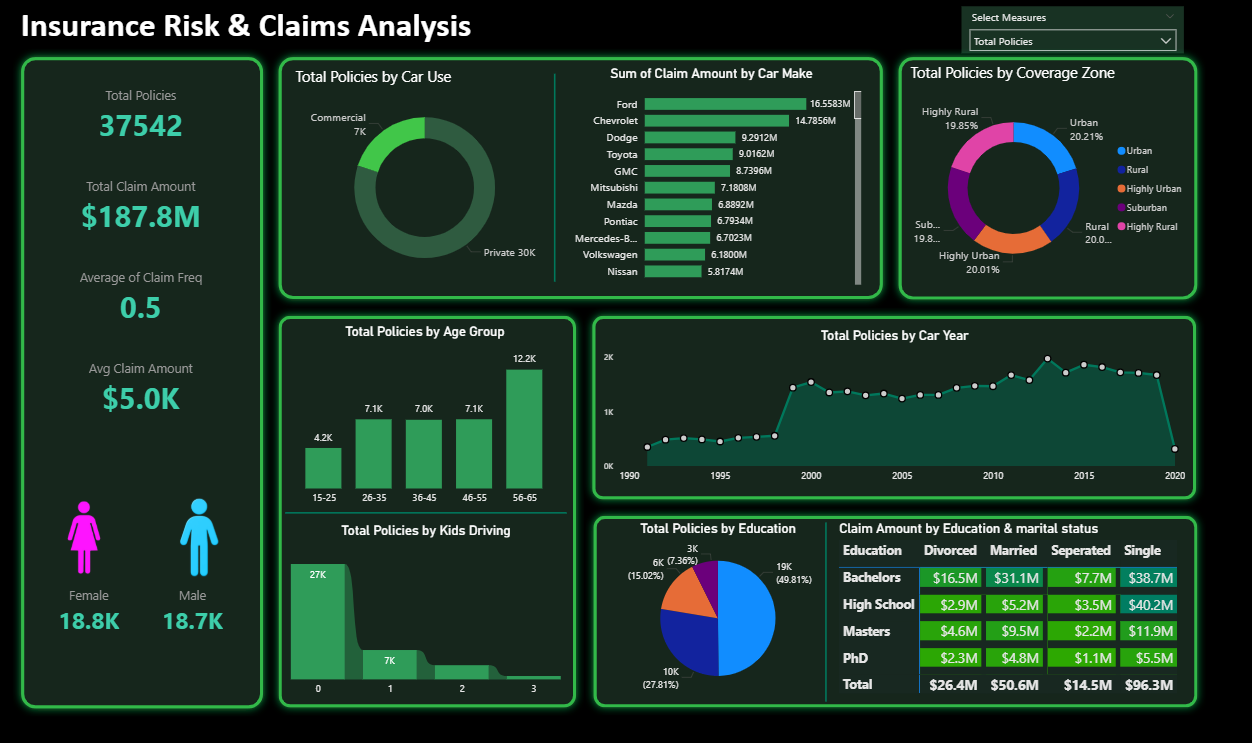

The page's visual inventory and layout, read from the dashboard file:
{"tool":"powerbi","page":{"name":"Page 1","canvas":[1600,950],"ordinal":0},"visuals":[{"type":"textbox","box":[0,0,629.5,61.7],"z":0},{"type":"shape","box":[17.2,61.7,329.3,850.8],"z":1000},{"type":"cardVisual","fields":{"Data":["insurance_data_car.Total Policies","insurance_data_car.Total Claim Amount","Avg(insurance_data_car.Claim Freq)","insurance_data_car.Avg Claim Amount"]},"box":[46.3,90.9,269.3,459.7],"z":2000},{"type":"cardVisual","fields":{"Data":["insurance_data_car.Female Count","insurance_data_car.Male Count"]},"box":[51.5,722.1,260.7,109.8],"z":3000},{"type":"image","box":[197.3,627.8,114.9,114.9],"z":4000},{"type":"image","box":[51.5,627.8,114.9,114.9],"z":5000},{"type":"slicer","fields":{"Values":["Select Measures.Select Measures"]},"box":[1225.3,8,283.3,60],"z":6000},{"type":"shape","box":[344.8,61.7,790.7,329.3],"z":7000},{"type":"donutChart","fields":{"Y":["insurance_data_car.Total Policies"],"Category":["insurance_data_car.Car Use"]},"box":[372.2,84,339.6,284.7],"z":8000},{"type":"clusteredBarChart","fields":{"Category":["insurance_data_car.Car Make"],"Y":["Sum(insurance_data_car.Claim Amount)"]},"box":[711.7,83.3,391.7,285],"z":9000},{"type":"shape","box":[1135,61.7,401.7,330],"z":10000},{"type":"donutChart","fields":{"Y":["insurance_data_car.Total Policies"],"Category":["insurance_data_car.Coverage Zone"]},"box":[1155,80,365,295],"z":11000},{"type":"shape","box":[345,391.7,400,520],"z":12000},{"type":"clusteredColumnChart","fields":{"Y":["insurance_data_car.Total Policies"],"Category":["insurance_data_car.Age Group"]},"box":[360,411.7,365,240],"z":13000},{"type":"ribbonChart","fields":{"Y":["insurance_data_car.Total Policies"],"Category":["insurance_data_car.Kids Driving"]},"box":[365,665,358.3,230],"z":14000},{"type":"shape","box":[745,391.7,790,255],"z":15000},{"type":"areaChart","fields":{"Y":["insurance_data_car.Total Policies"],"Category":["insurance_data_car.Car Year"]},"box":[765,416.7,750,206.7],"z":16000},{"type":"shape","box":[746.7,646.7,790,265],"z":17000},{"type":"pieChart","fields":{"Y":["insurance_data_car.Total Policies"],"Category":["insurance_data_car.Education"]},"box":[765,661.7,300,230],"z":18000},{"type":"pivotTable","title":"Claim Amount by Education & marital status","fields":{"Columns":["insurance_data_car.Marital Status"],"Rows":["insurance_data_car.Education"],"Values":["insurance_data_car.Total Claim Amount"]},"box":[1065,661.7,450,230],"z":19000},{"type":"shape","box":[670,93.3,75,265],"z":20000},{"type":"shape","box":[1015,665,75,228.3],"z":21000},{"type":"shape","box":[365,625,358.3,55],"z":22000}]}

Visuals, with their boxes in screenshot pixels (x1, y1, x2, y2), scaled from the page's 1600x950 canvas onto the 1252x743 screenshot:
textbox: 0, 0, 493, 48
shape: 13, 48, 271, 714
cardVisual - insurance_data_car.Total Policies x insurance_data_car.Total Claim Amount: 36, 71, 247, 431
cardVisual - insurance_data_car.Female Count x insurance_data_car.Male Count: 40, 565, 244, 651
image: 154, 491, 244, 581
image: 40, 491, 130, 581
slicer - Select Measures.Select Measures: 959, 6, 1180, 53
shape: 270, 48, 889, 306
donutChart - insurance_data_car.Total Policies x insurance_data_car.Car Use: 291, 66, 557, 288
clusteredBarChart - insurance_data_car.Car Make x Sum(insurance_data_car.Claim Amount): 557, 65, 863, 288
shape: 888, 48, 1202, 306
donutChart - insurance_data_car.Total Policies x insurance_data_car.Coverage Zone: 904, 63, 1189, 293
shape: 270, 306, 583, 713
clusteredColumnChart - insurance_data_car.Total Policies x insurance_data_car.Age Group: 282, 322, 567, 510
ribbonChart - insurance_data_car.Total Policies x insurance_data_car.Kids Driving: 286, 520, 566, 700
shape: 583, 306, 1201, 506
areaChart - insurance_data_car.Total Policies x insurance_data_car.Car Year: 599, 326, 1185, 488
shape: 584, 506, 1202, 713
pieChart - insurance_data_car.Total Policies x insurance_data_car.Education: 599, 518, 833, 697
"Claim Amount by Education & marital status" pivotTable: 833, 518, 1185, 697
shape: 524, 73, 583, 280
shape: 794, 520, 853, 699
shape: 286, 489, 566, 532
